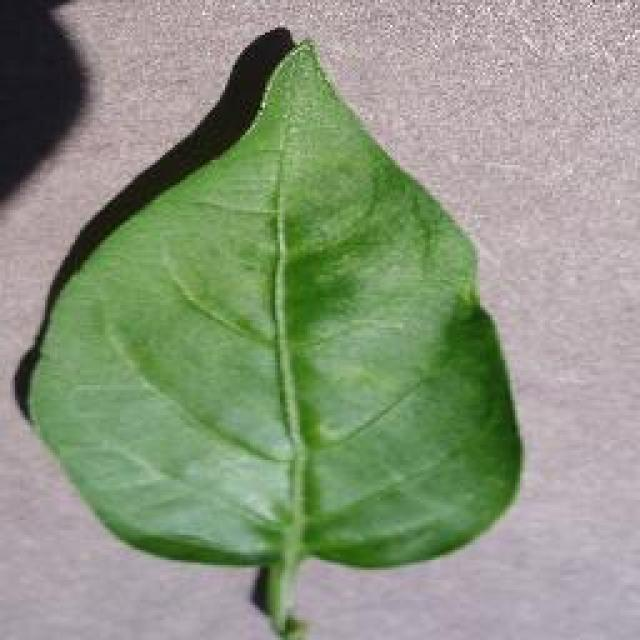Chilli_Healthy: (13, 28, 525, 632)
